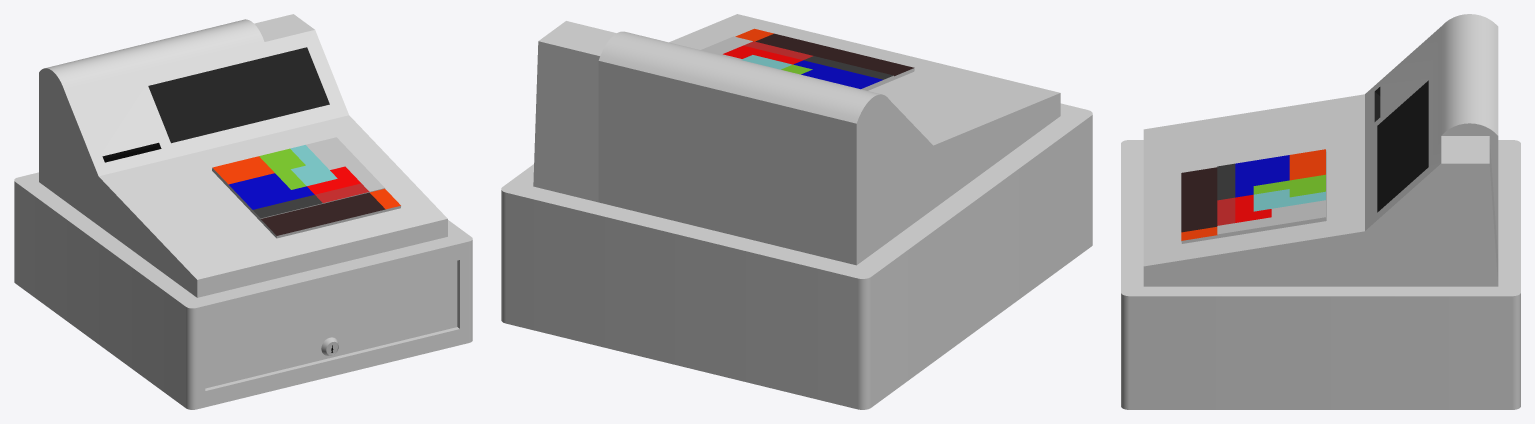
The model's file is Kassa.fbx.
The picture shows the model from 3 angles, left to right: view 1: azimuth 30°, elevation 25°; view 2: azimuth 150°, elevation 25°; view 3: azimuth 270°, elevation 25°; orthographic projection. The views are drawn at different scales.
Visible parts, largest first — view 1: Kassa1; view 2: Kassa1; view 3: Kassa1.
Part boxes in pixels (x1=…): Kassa1: x1=14, y1=14, x2=472, y2=409; Kassa1: x1=501, y1=14, x2=1092, y2=409; Kassa1: x1=1121, y1=14, x2=1520, y2=409.
Bounding box in the file's own units: 0.43 × 0.32 × 0.465.
